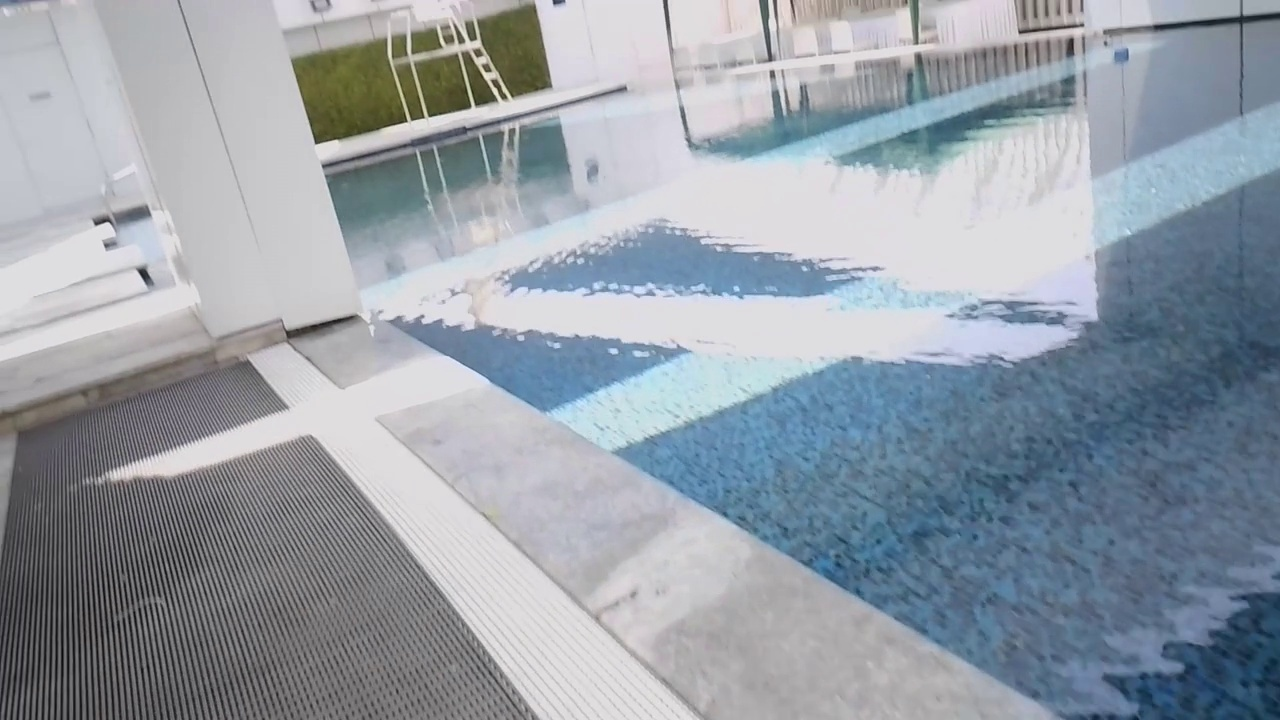debris: (1110, 46, 1132, 62)
